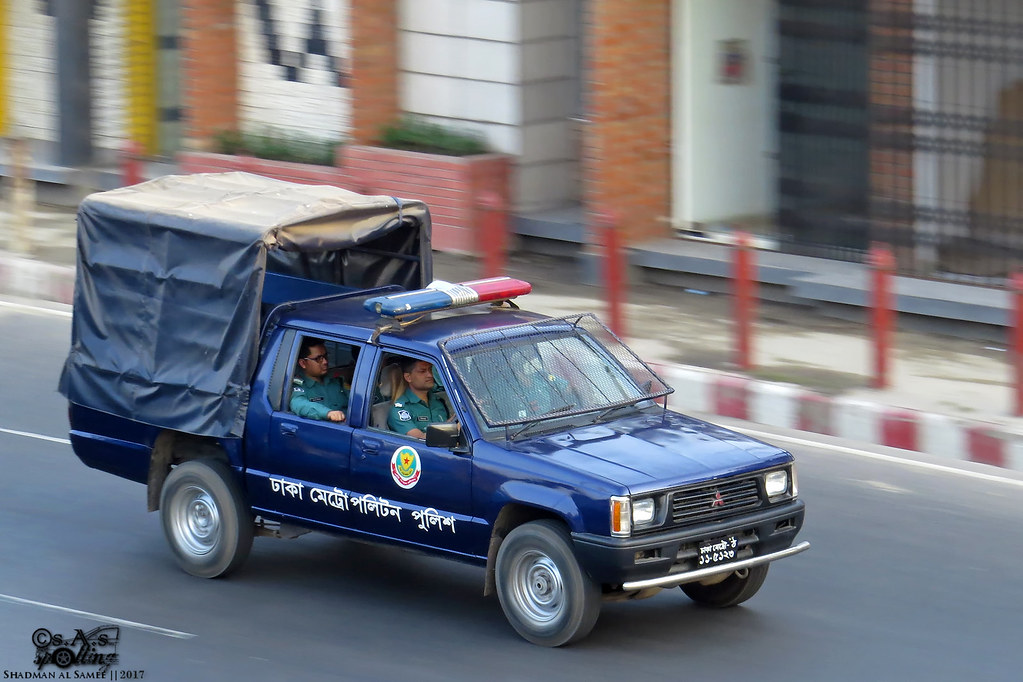policecar: (56, 170, 810, 647)
